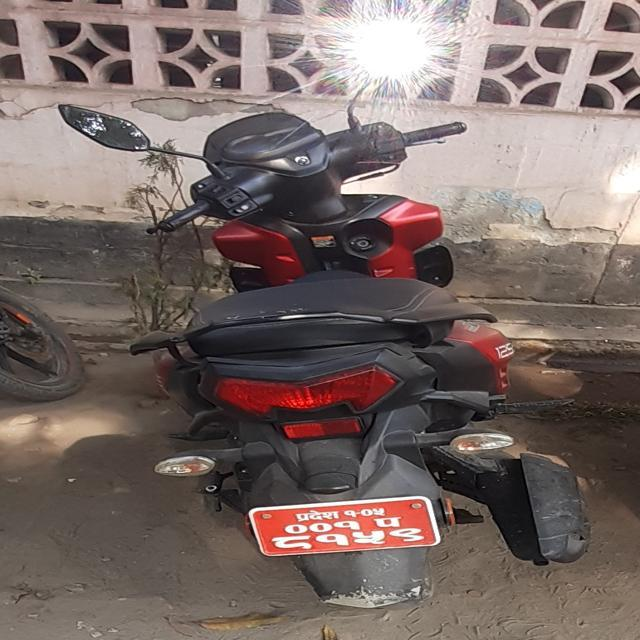license_plate: (237, 482, 466, 568)
